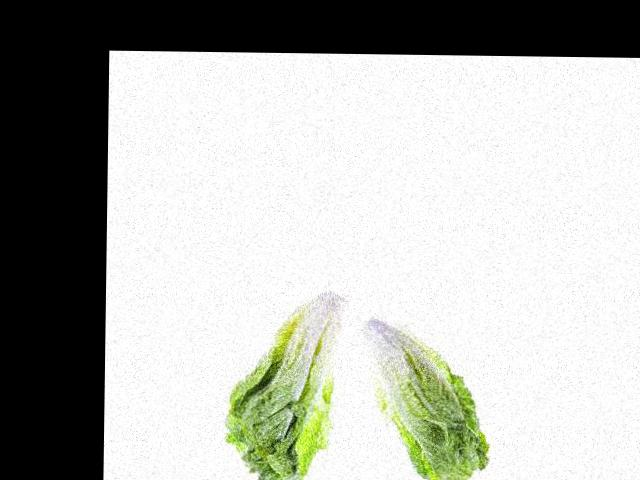lettuce: (195, 336, 349, 471)
